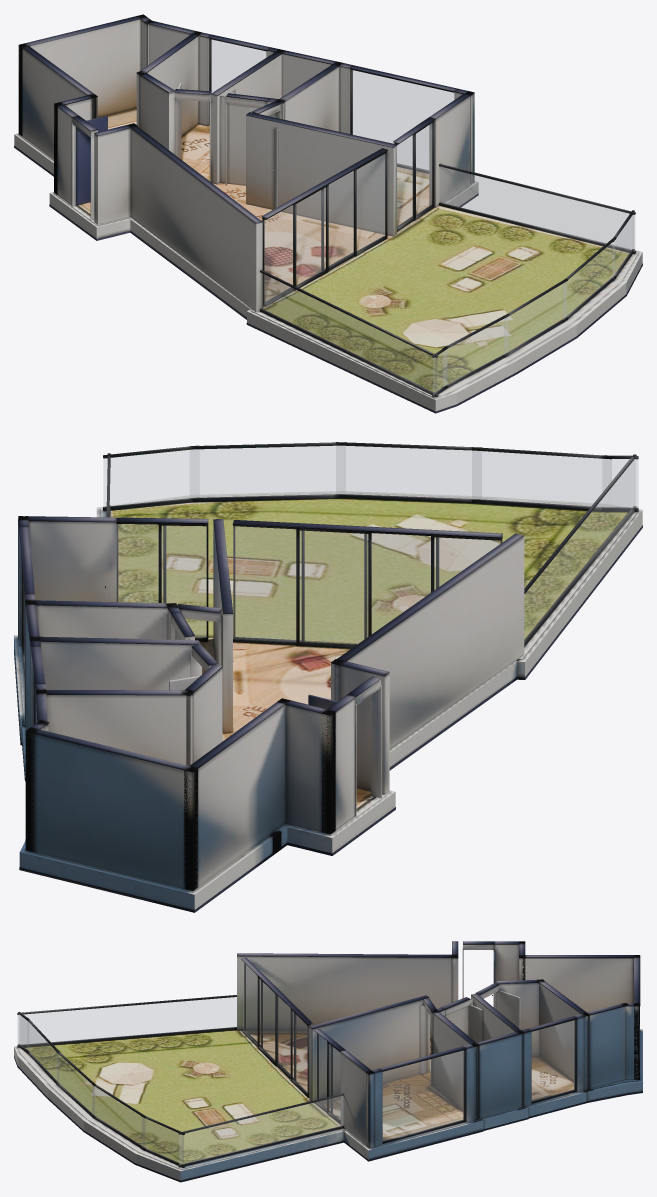
3 renders of one model, top to bottom at view 1: azimuth 30°, elevation 25°; view 2: azimuth 150°, elevation 25°; view 3: azimuth 270°, elevation 25°, orthographic. The views are drawn at different scales.
Visible parts, largest first — view 1: plan, glass2_m, railg0_m, railg6_m, glass1_m, glass3_m, railg4_m, railg3_m, railg2_m, glass0_m, railg1_m; view 2: plan, glass2_m, railg2_m, railg3_m, glass3_m, railg4_m, railg6_m, railg1_m, railg5_m; view 3: plan, railg6_m, glass1_m, railg0_m, glass2_m, glass0_m, railg2_m, glass3_m, railg1_m, railg3_m, railg4_m.
Part boxes in pixels (x1,y1,x2,y2): plan: (14,14,642,413); glass2_m: (264,154,384,303); railg0_m: (439,167,634,250); railg6_m: (261,273,437,393); glass1_m: (352,70,453,170); glass3_m: (397,123,431,228); railg4_m: (443,317,508,386); railg3_m: (504,281,566,354); railg2_m: (563,241,614,319); glass0_m: (211,39,266,92); railg1_m: (612,215,633,277); plan: (14,442,642,912); glass2_m: (233,526,500,644); railg2_m: (190,446,345,498); railg3_m: (336,446,481,499); glass3_m: (117,524,206,637); railg4_m: (472,451,611,507); railg6_m: (524,460,634,641); railg1_m: (103,449,198,507); railg5_m: (602,459,638,507); plan: (14,941,642,1182); railg6_m: (17,997,236,1044); glass1_m: (383,1050,463,1141); railg0_m: (179,1096,343,1164); glass2_m: (243,962,307,1092); glass0_m: (532,1020,574,1101); railg2_m: (92,1085,145,1148); glass3_m: (316,1033,340,1119); railg1_m: (142,1117,183,1164); railg3_m: (57,1053,94,1115); railg4_m: (27,1021,59,1083).
Bounding box in the file's own units: 10.23 × 2.62 × 17.39.
Materials: 2 (1 with a texture image).
